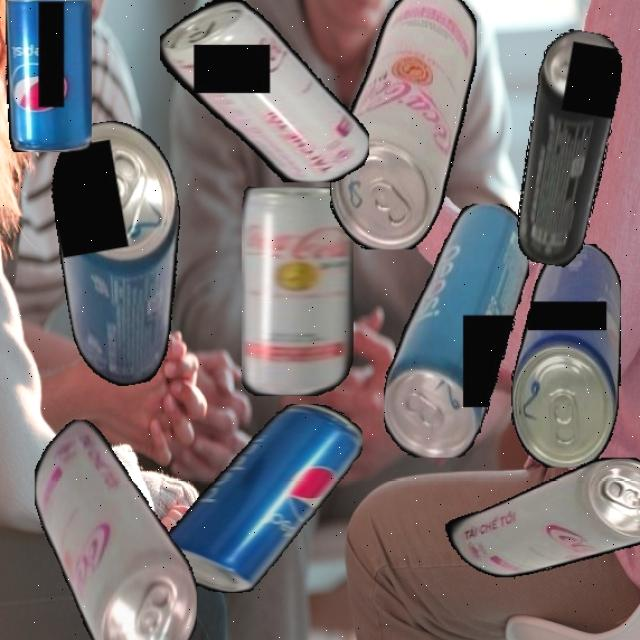debris: (38, 112, 208, 393), (156, 404, 362, 593), (158, 0, 369, 182), (383, 202, 529, 458), (329, 0, 477, 250), (33, 418, 197, 640), (507, 26, 628, 271), (510, 242, 621, 468), (434, 458, 640, 577), (242, 186, 354, 396), (5, 0, 91, 152)
